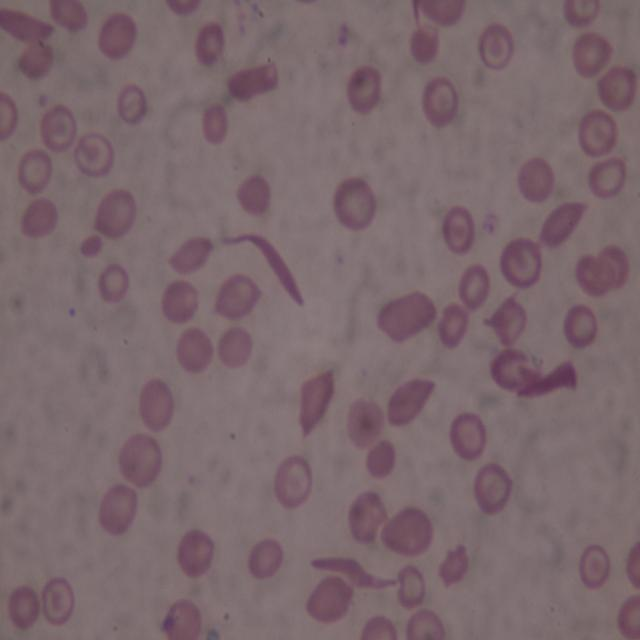Crystal: (226, 61, 280, 102)
Normal: (572, 33, 616, 76), (451, 411, 486, 464), (17, 146, 55, 193), (563, 304, 598, 346), (8, 584, 39, 629), (98, 263, 130, 301), (615, 592, 638, 640), (0, 90, 19, 140)
Others: (376, 286, 434, 340), (296, 366, 337, 439), (381, 503, 433, 556), (516, 357, 579, 400), (118, 429, 163, 487), (214, 271, 266, 321), (306, 577, 356, 627), (472, 460, 515, 517), (499, 237, 544, 290), (332, 177, 376, 231), (347, 489, 387, 548), (94, 188, 138, 241), (97, 479, 135, 536), (94, 12, 140, 59), (483, 299, 529, 345), (272, 454, 311, 508), (138, 378, 177, 431), (343, 66, 383, 117), (345, 399, 385, 450), (168, 234, 216, 276), (159, 278, 203, 323), (598, 65, 638, 113), (571, 254, 615, 297), (177, 526, 214, 576), (234, 173, 269, 219), (176, 329, 214, 371), (22, 194, 59, 237), (248, 534, 284, 578), (217, 323, 252, 368), (194, 19, 226, 68), (14, 38, 52, 79), (595, 246, 630, 290), (518, 158, 552, 203), (165, 598, 203, 638), (440, 302, 473, 348), (437, 541, 470, 587), (590, 156, 626, 198), (459, 262, 491, 308), (413, 0, 467, 27), (395, 566, 426, 610), (48, 0, 90, 32), (117, 81, 147, 125), (562, 0, 602, 27), (366, 438, 394, 476), (409, 24, 437, 62), (361, 612, 398, 638), (201, 106, 226, 142), (622, 540, 640, 590), (78, 230, 104, 260), (166, 0, 203, 17)
Sickle: (220, 232, 306, 310), (536, 196, 588, 252), (384, 377, 437, 427), (310, 556, 375, 586), (0, 7, 54, 43), (488, 347, 528, 393), (347, 572, 397, 592)
Target: (578, 108, 618, 158), (422, 78, 460, 130), (40, 104, 78, 155), (74, 132, 116, 175), (40, 577, 74, 627), (479, 23, 514, 69), (578, 544, 612, 590), (444, 206, 475, 253), (404, 606, 444, 637)
